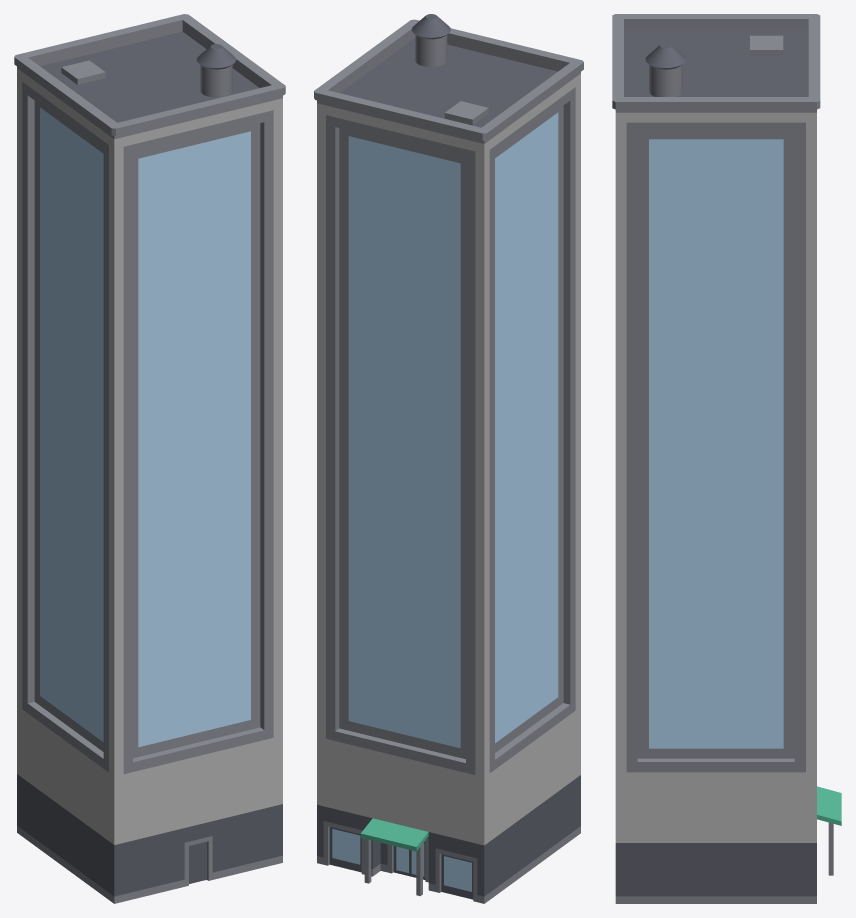
The model's file is skyscraperD.obj.
The picture shows the model from 3 angles, left to right: view 1: azimuth 30°, elevation 25°; view 2: azimuth 150°, elevation 25°; view 3: azimuth 270°, elevation 25°; orthographic projection. The views are drawn at different scales.
Visible parts, largest first — view 1: skyscraperD; view 2: skyscraperD; view 3: skyscraperD.
Part boxes in pixels (left/top/right/bottom): skyscraperD: left=14, top=14, right=285, bottom=903; skyscraperD: left=314, top=14, right=583, bottom=903; skyscraperD: left=612, top=14, right=841, bottom=903.
Bounding box in the file's own units: 1.24 × 5.5 × 1.37.
